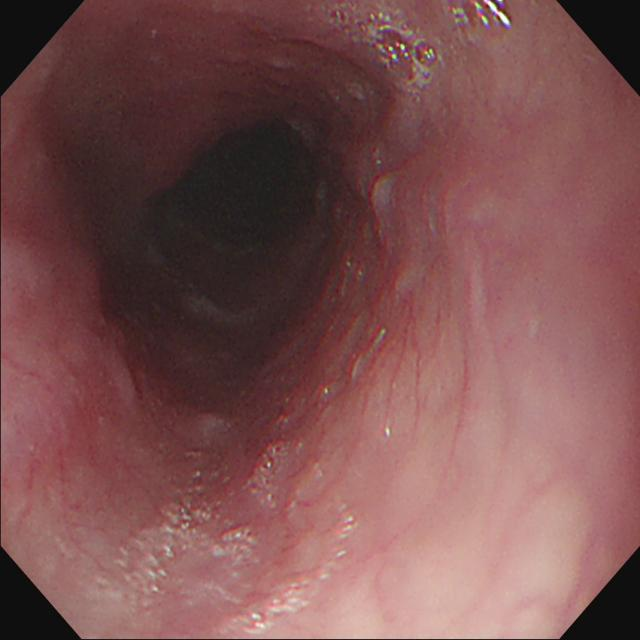E: (175, 125, 315, 249)
